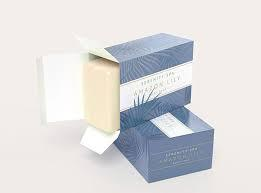box: (42, 33, 194, 154), (111, 89, 214, 184)
